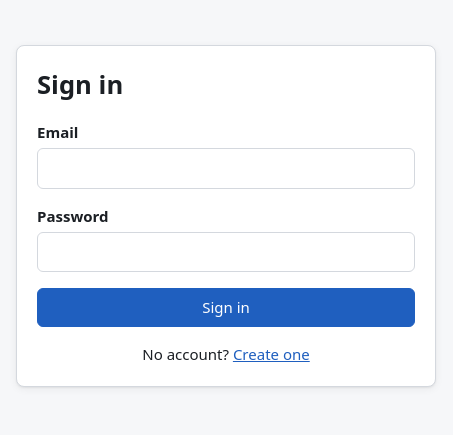
LoginPage › shows a countdown and disables submit on 429
Type "user@example.com" into the field labelled "Email".
click(226, 168); type("user@example.com")  # box [37,148,415,188]
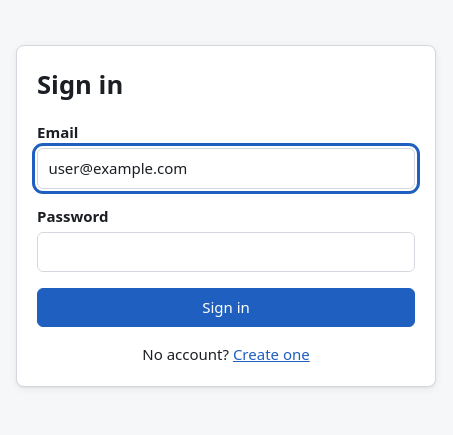
Type "wrong password!" into the password field labelled "Password".
click(226, 252); type("wrong password!")  # box [37,232,415,272]
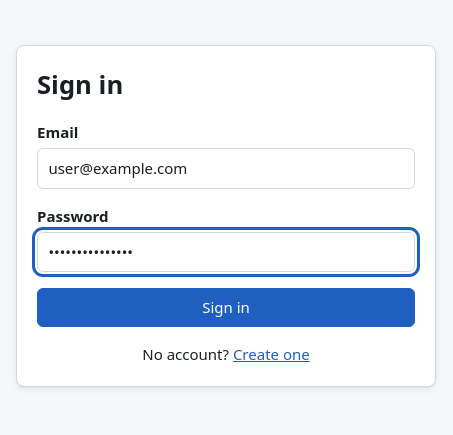
Click the button "Sign in".
click(226, 308)  # box [37,288,415,327]
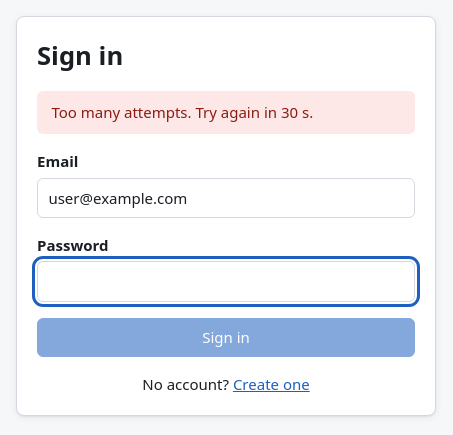
expect the text "Too many attempts. Try again in 30 s." is shown: met, box [37,91,415,134]
expect the button "Sign in" is disabled: met, box [37,318,415,357]
